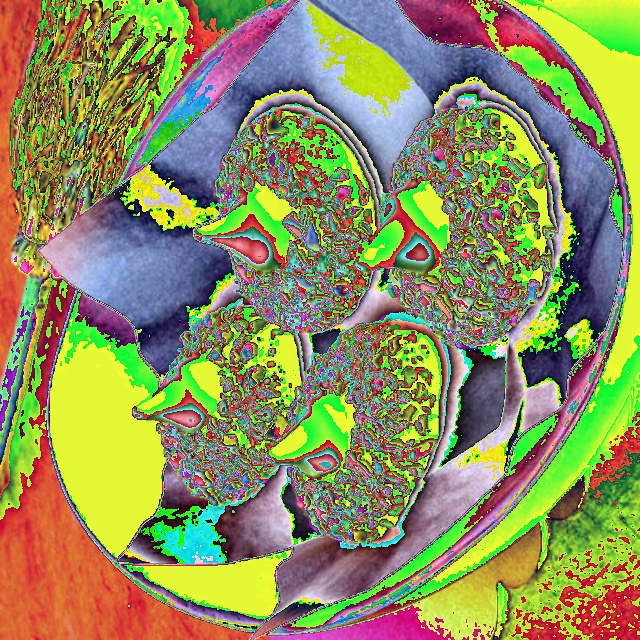background: (132, 106, 556, 543)
